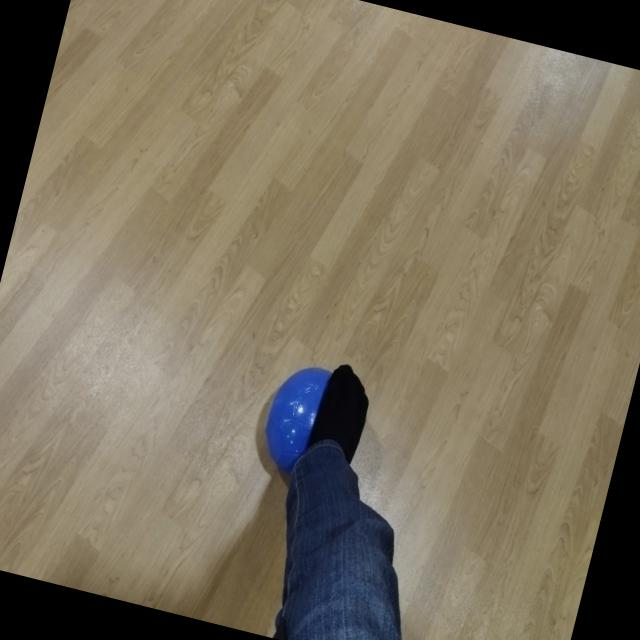blue_ball: (250, 356, 340, 491)
